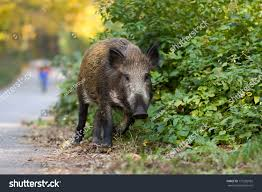boar: (76, 37, 163, 144)
